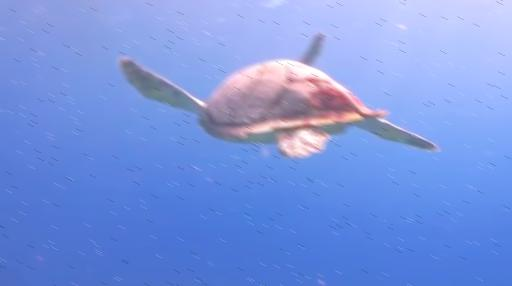Fish: (118, 33, 438, 157)
